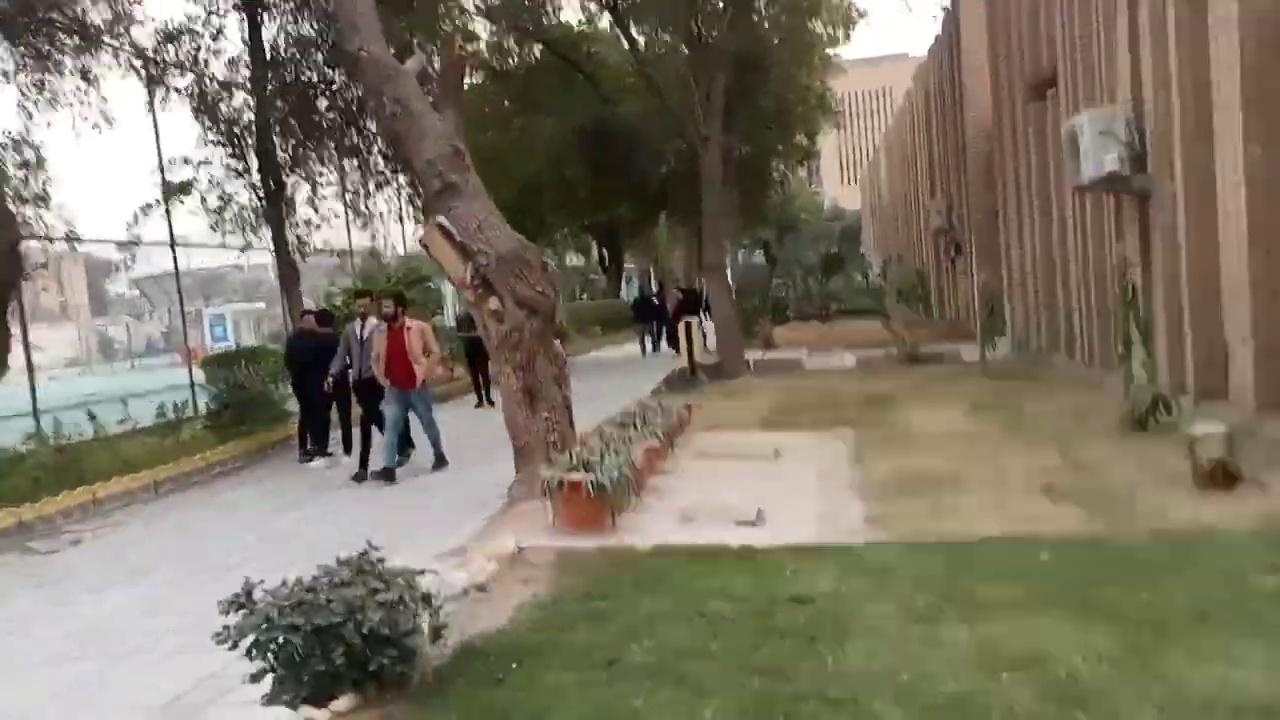person: (324, 288, 415, 483), (367, 289, 449, 483), (283, 307, 349, 464), (455, 307, 495, 408), (629, 285, 659, 356)
tree: (0, 0, 788, 445), (313, 0, 586, 500), (594, 0, 864, 380), (3, 0, 241, 417), (158, 0, 417, 339), (0, 0, 118, 438), (210, 538, 448, 716)
